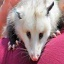opossum: (7, 1, 62, 61)
